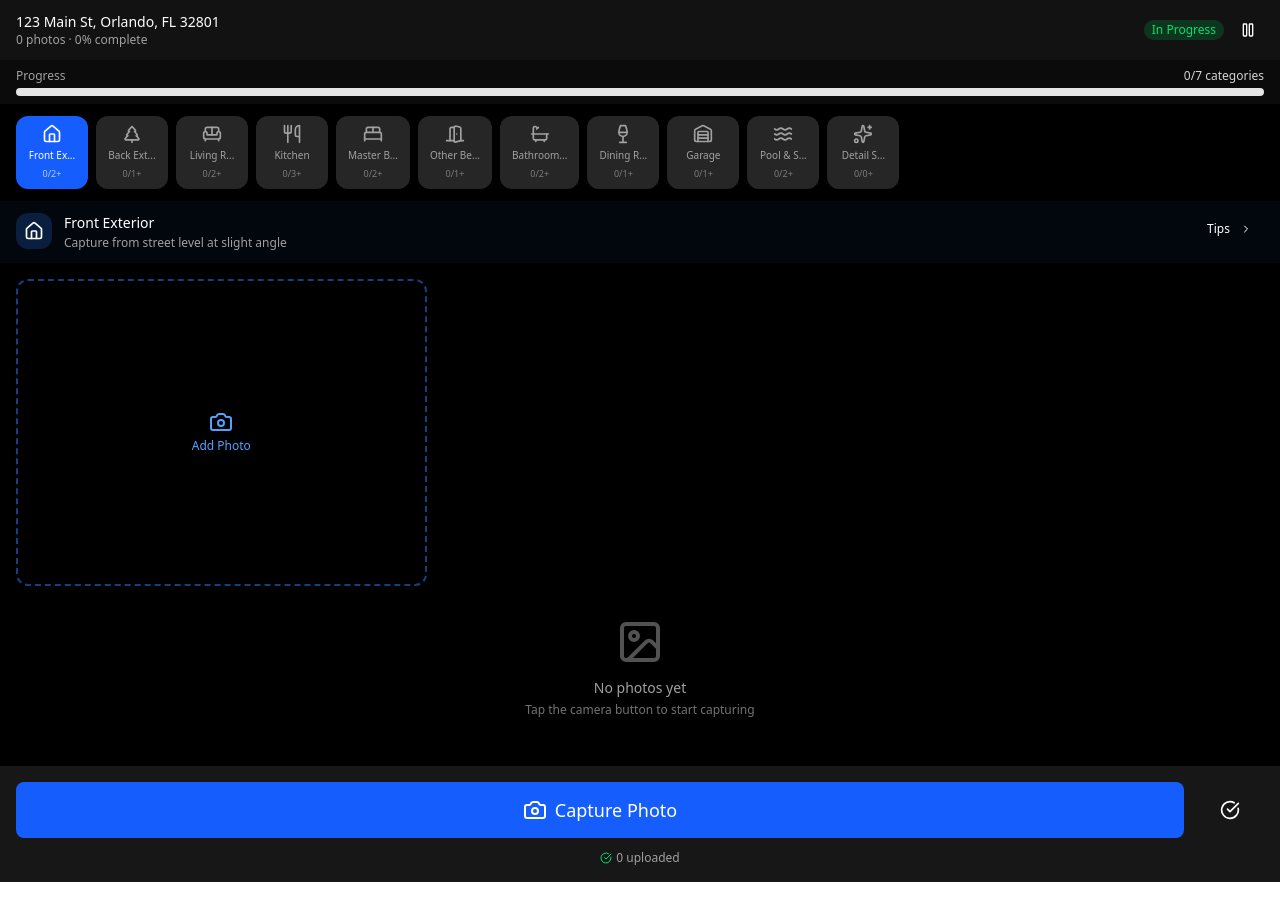
ShootModeClient › Category Selection › should switch category when clicked
The width and height of the screenshot is (1280, 900).
# Find kitchen button by its truncated text
Click the button "Kitchen 0/3+". click: coordinates (292, 152)
box: x1=256 y1=116 x2=328 y2=188
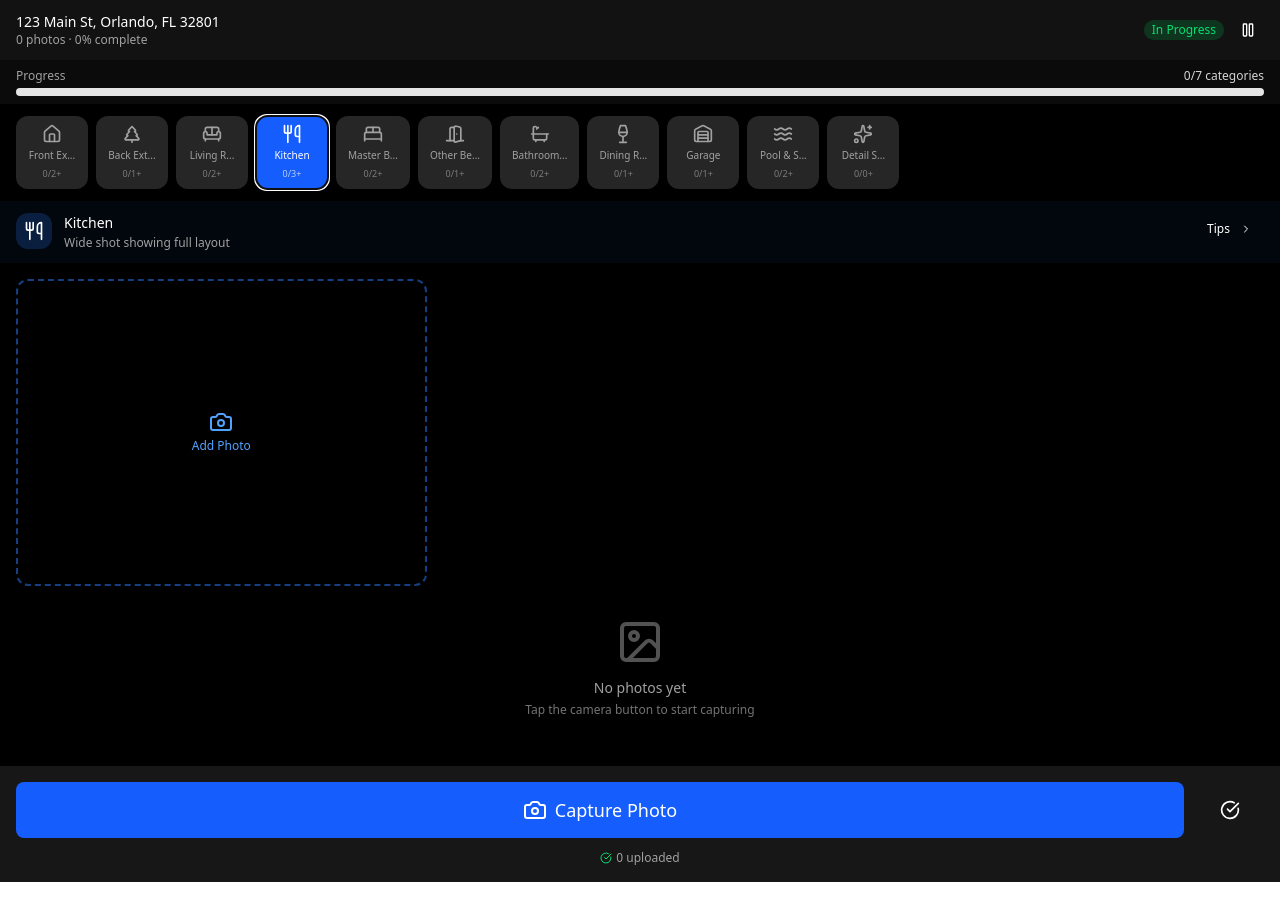
Check: the text "Wide shot showing full layout" is shown, box x1=64 y1=234 x2=230 y2=250
